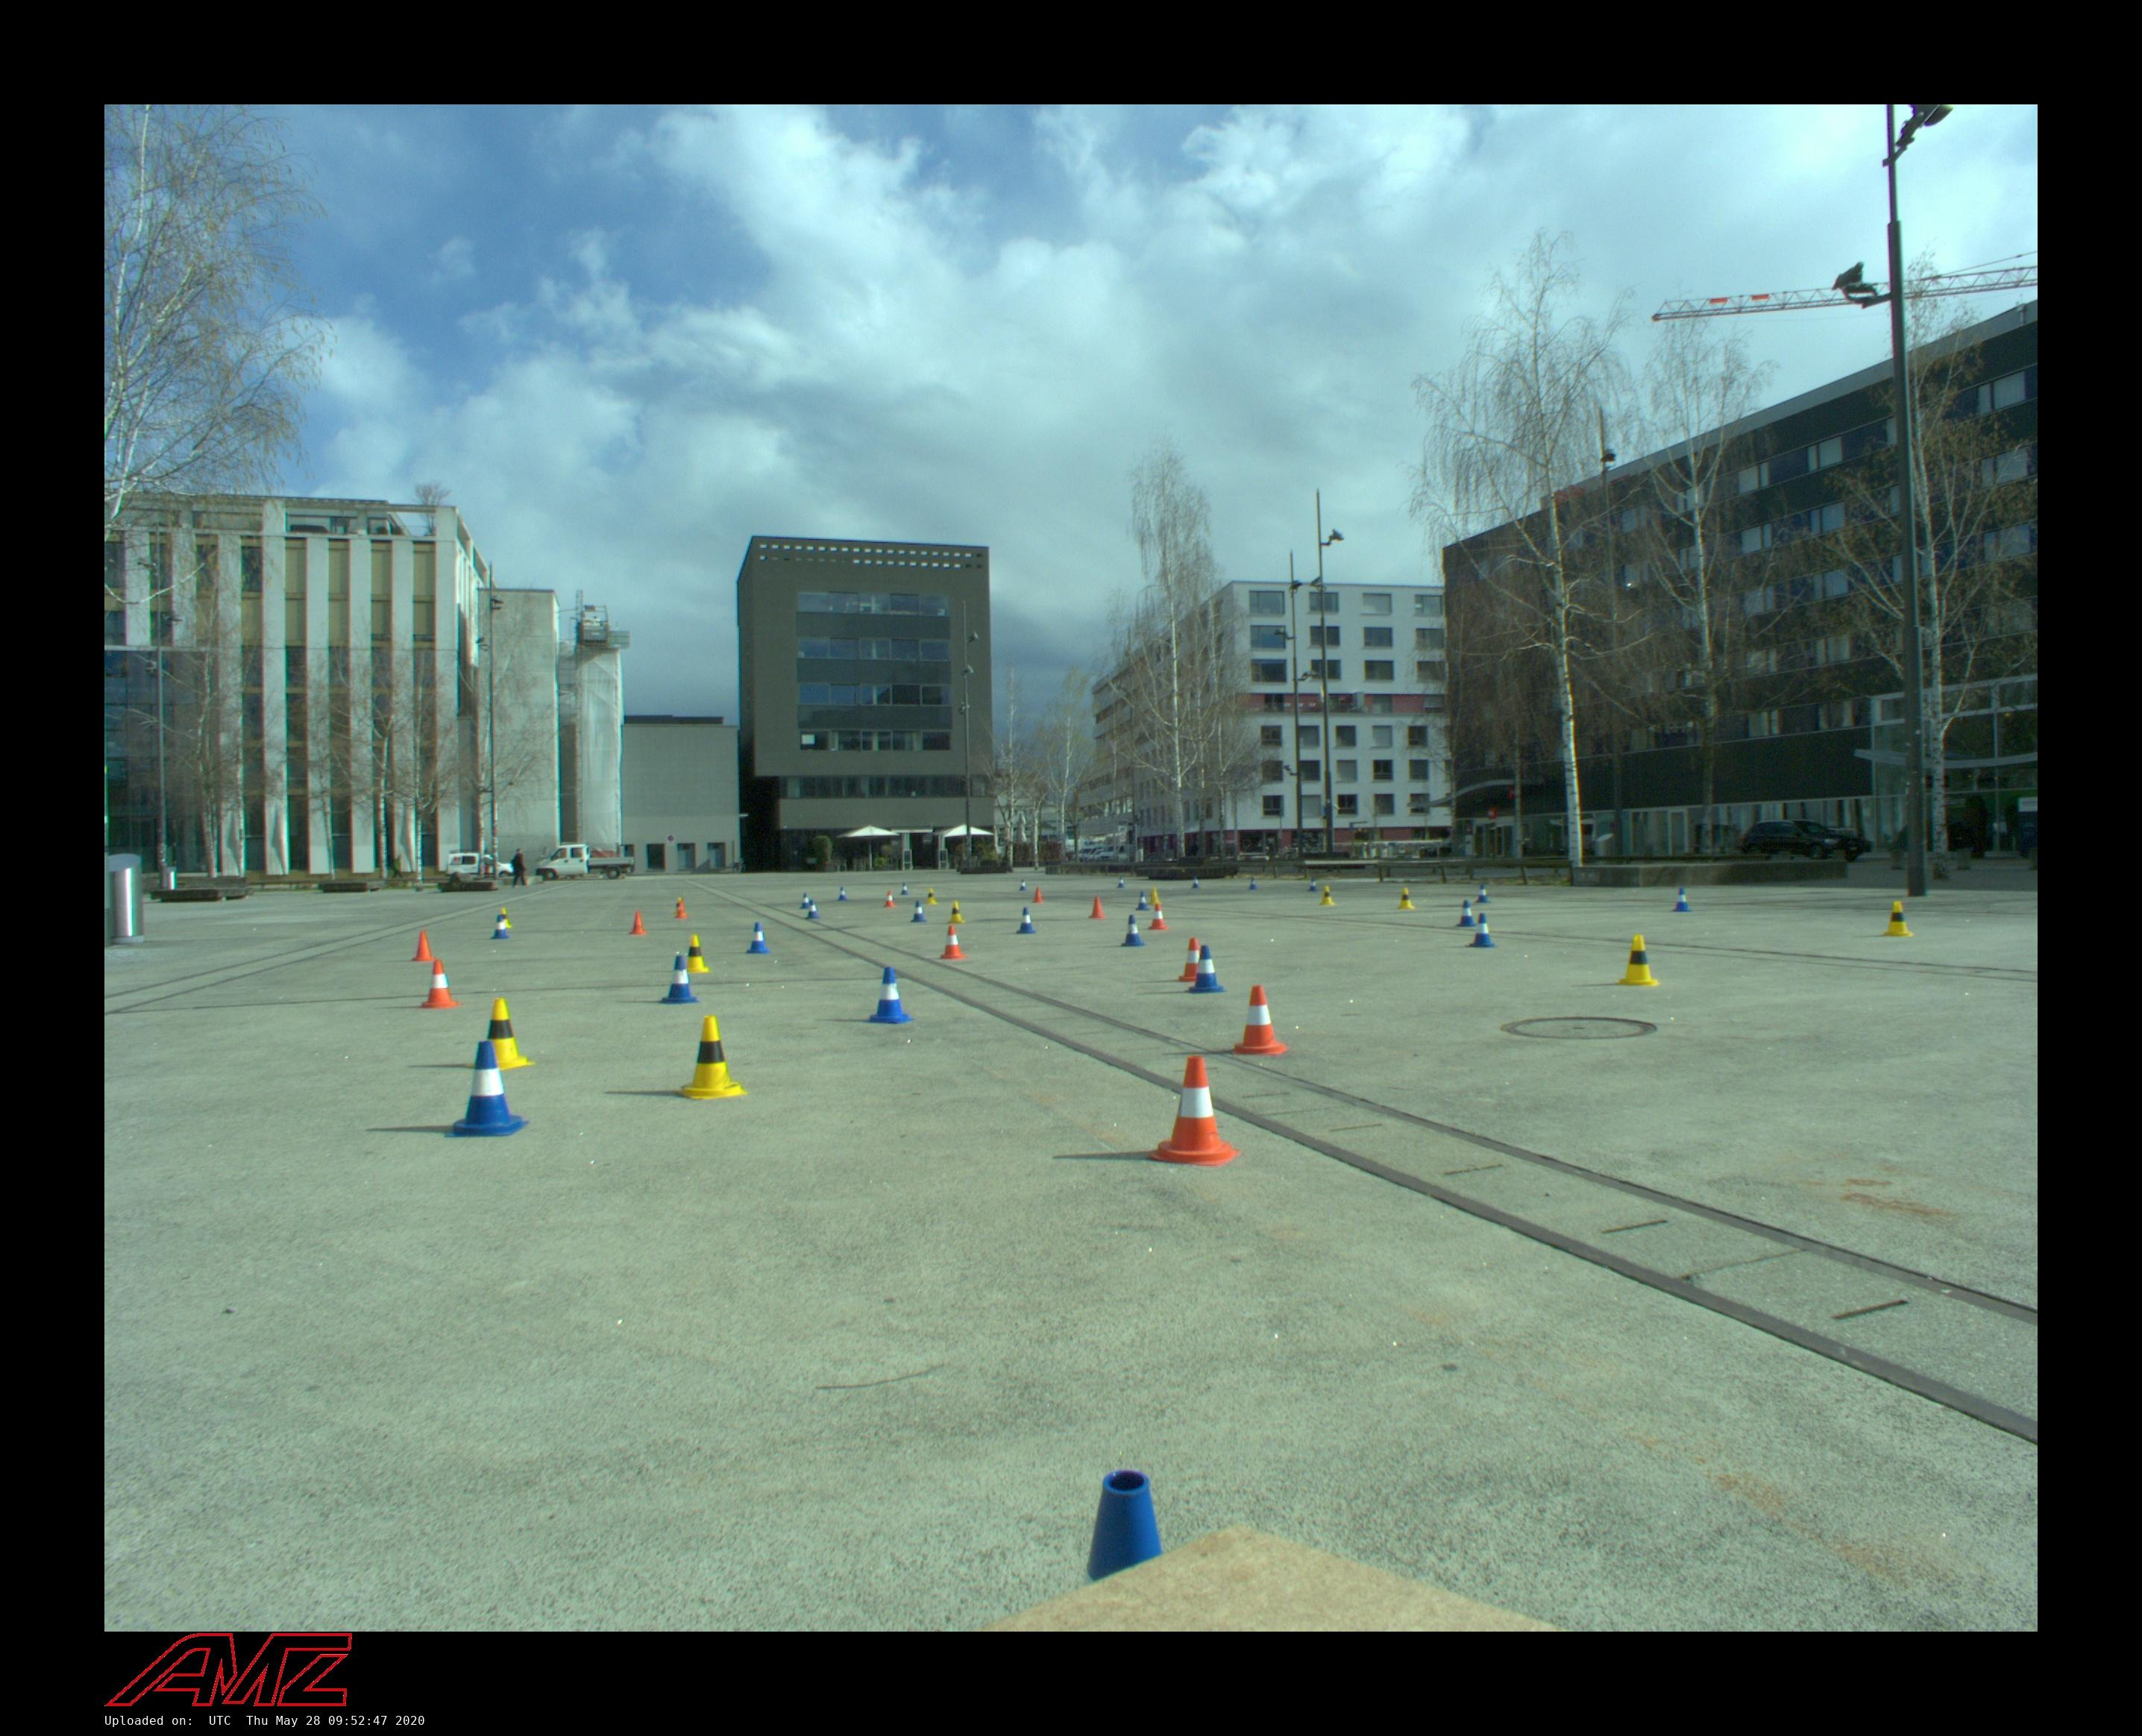blue_cone: (445, 1041, 529, 1137), (867, 966, 915, 1024), (660, 955, 702, 1004), (1187, 945, 1227, 994), (1469, 913, 1496, 948), (744, 922, 771, 954), (1120, 914, 1145, 947), (1456, 899, 1477, 927), (1016, 907, 1036, 934), (490, 914, 509, 939), (1672, 887, 1691, 912), (911, 901, 927, 922), (805, 899, 820, 919), (1137, 892, 1150, 911), (1476, 884, 1489, 902), (800, 893, 812, 910), (837, 887, 847, 902), (899, 882, 910, 896), (1308, 878, 1318, 892), (1192, 876, 1201, 889), (1019, 879, 1028, 890), (1249, 877, 1257, 890), (1117, 877, 1125, 888)
orange_cone: (1149, 1056, 1243, 1166), (1229, 984, 1288, 1055), (417, 960, 462, 1010), (1178, 937, 1207, 982), (940, 925, 967, 960), (412, 930, 436, 960), (1150, 903, 1169, 930), (1088, 896, 1107, 919), (629, 911, 647, 935), (675, 901, 689, 919), (884, 891, 896, 908), (1032, 887, 1044, 904)
yellow_cone: (673, 1015, 747, 1100), (467, 998, 534, 1072), (1619, 934, 1659, 987), (680, 934, 710, 974), (1882, 901, 1913, 937), (946, 901, 966, 924), (1397, 887, 1415, 910), (496, 908, 513, 928), (1319, 885, 1335, 905), (673, 897, 688, 915), (1148, 887, 1162, 905), (925, 887, 938, 905)
